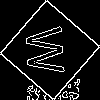W: (25, 25, 74, 75)
